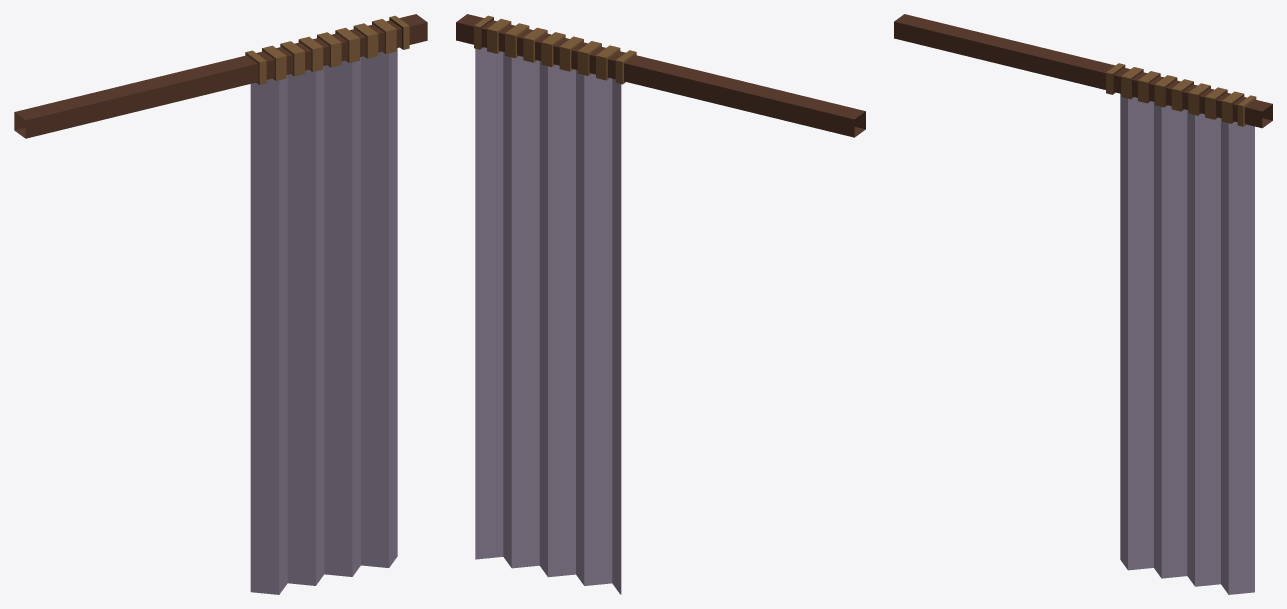
Rendered from Curtain_3B.fbx.
3 views of the same model, side by side, from view 1: azimuth 30°, elevation 25°; view 2: azimuth 150°, elevation 25°; view 3: azimuth 330°, elevation 25° (orthographic). The views are drawn at different scales.
Visible parts, largest first — view 1: polySurface811; view 2: polySurface811; view 3: polySurface811.
Boxes of the visible parts, box(x1,y1,x2,y2) form: polySurface811: box(14, 14, 427, 594); polySurface811: box(456, 14, 865, 594); polySurface811: box(894, 14, 1272, 594).
Bounding box in the file's own units: 2.4 × 3.08 × 0.1452.
1 material, 1 textured.
